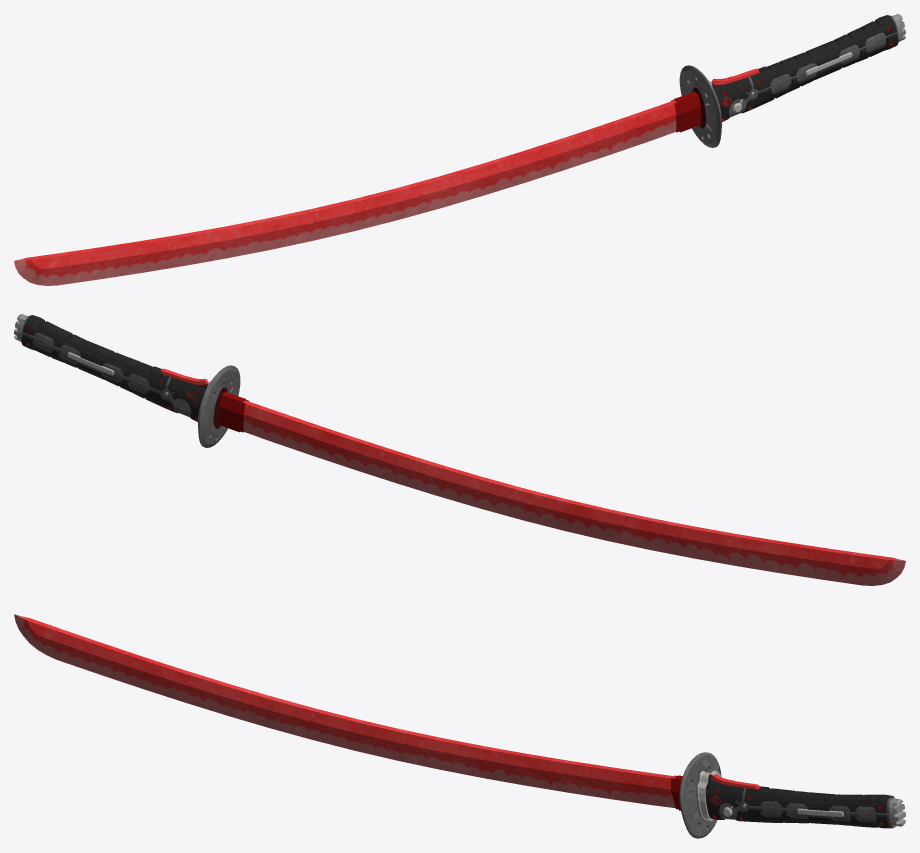
File: katana.obj
3 views of the same model, one above another, from view 1: azimuth 30°, elevation 25°; view 2: azimuth 150°, elevation 25°; view 3: azimuth 330°, elevation 25° (orthographic).
Visible parts, largest first — view 1: blade_low; view 2: blade_low; view 3: blade_low.
Part boxes in pixels (x1,y1,x2,y2): blade_low: (14, 14, 905, 285); blade_low: (14, 314, 905, 585); blade_low: (14, 614, 905, 838).
Size of the model in its own units: 4.94 by 0.4483 by 0.385.
